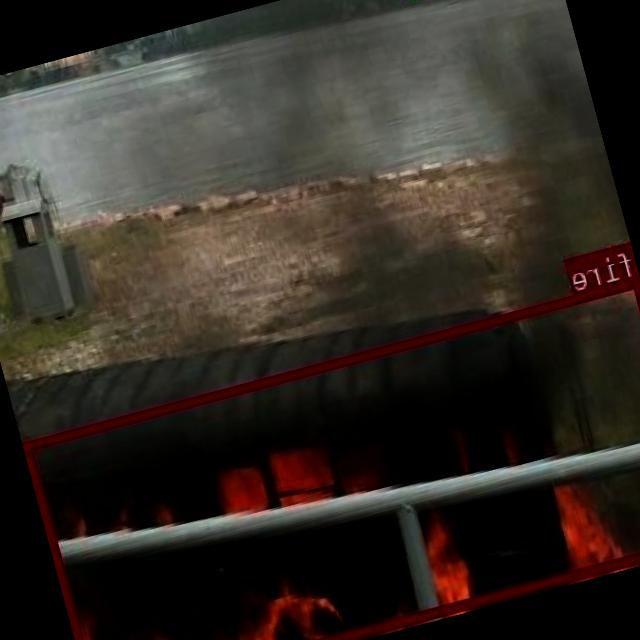fire: (25, 275, 640, 640)
